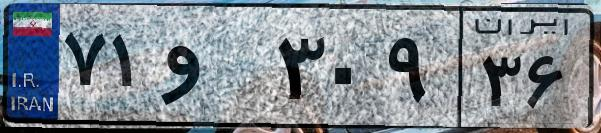0: (330, 28, 385, 110)
1: (110, 28, 158, 98)
3: (270, 28, 330, 110), (475, 38, 525, 113)
6: (525, 38, 570, 115)
7: (57, 26, 110, 100)
9: (385, 28, 445, 110)
و: (158, 20, 270, 120)
